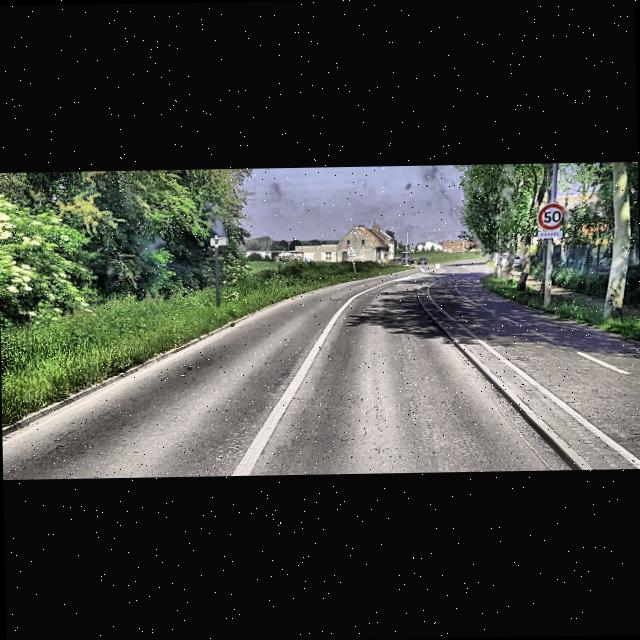speed_50: (538, 202, 564, 228)
